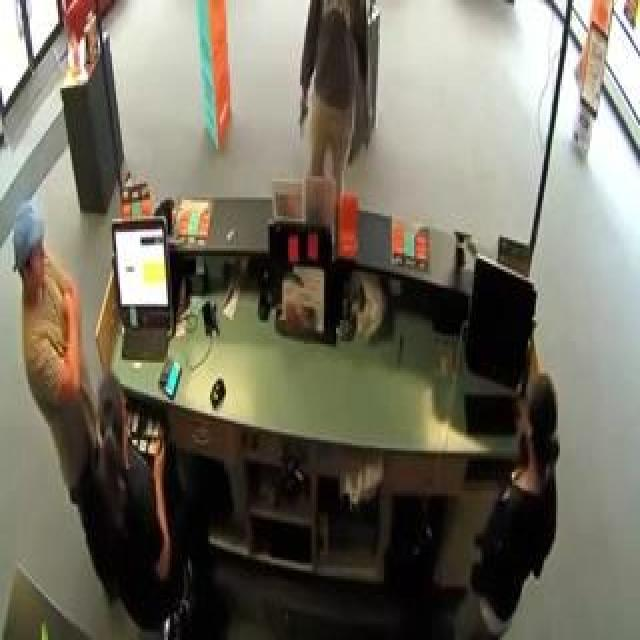low_con: (11, 195, 49, 308)
no_con: (515, 374, 560, 486), (93, 367, 132, 474)
